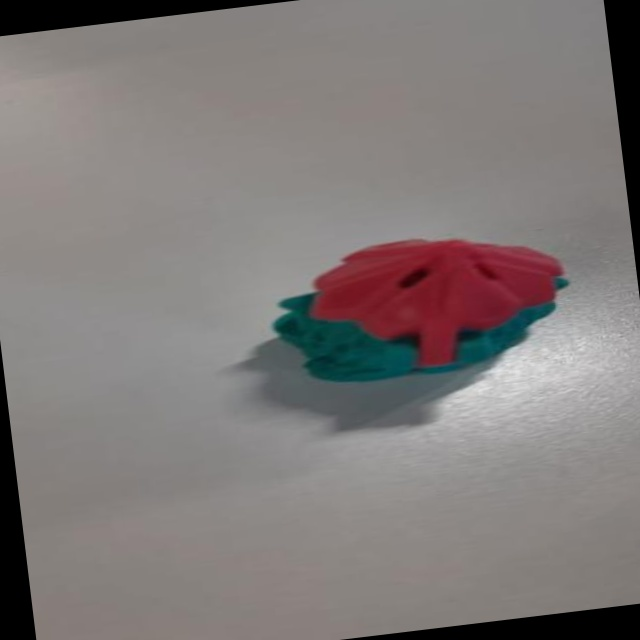House: (264, 213, 571, 399)
